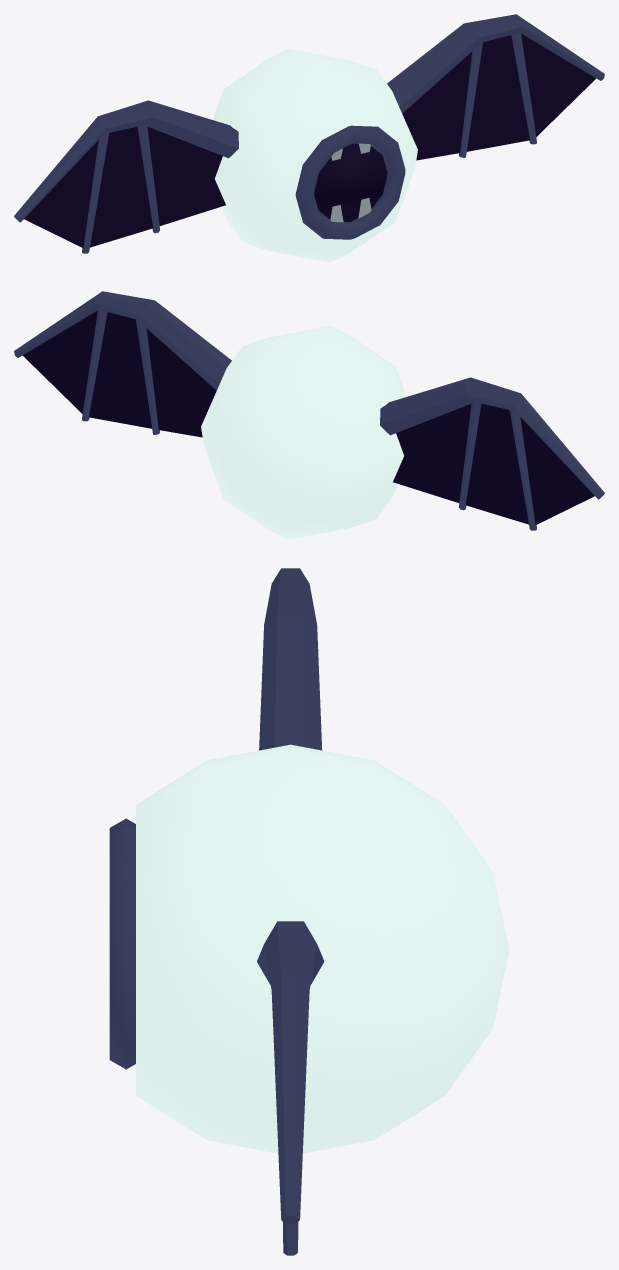
File: bat_ghost.glb
3 views of the same model, one above another, from view 1: azimuth 30°, elevation 25°; view 2: azimuth 150°, elevation 25°; view 3: azimuth 270°, elevation 25° (orthographic). The views are drawn at different scales.
Parts seen in each view (by area): view 1: bat_ghost; view 2: bat_ghost; view 3: bat_ghost.
Boxes of the visible parts, x1,y1,x2,y2 form: bat_ghost: (14,14,604,262); bat_ghost: (14,291,604,539); bat_ghost: (109,568,509,1255).
Bounding box in the file's own units: 25.19 × 8.11 × 7.41.
